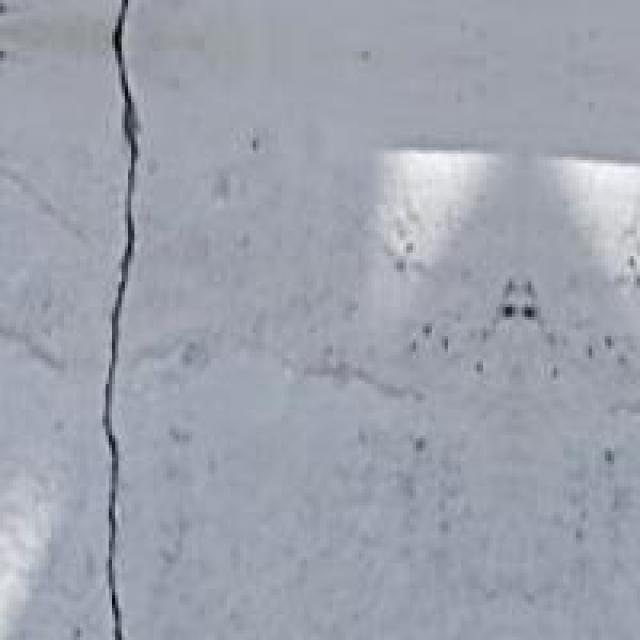crack: (77, 0, 214, 637)
